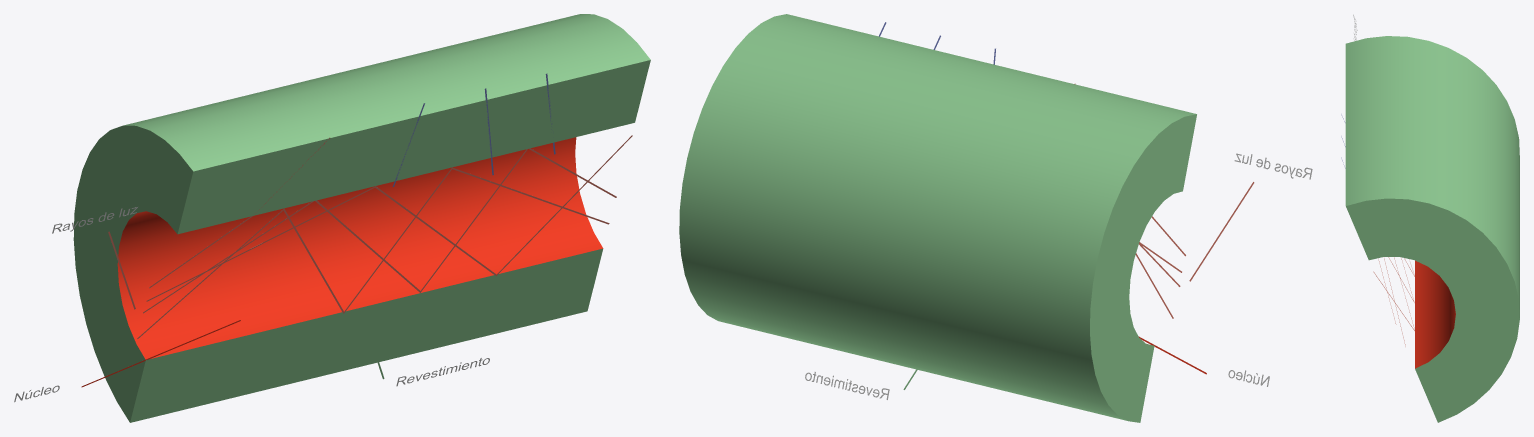
The model's file is FuncionFOP1.glb.
3 views of the same model, side by side, from view 1: azimuth 30°, elevation 25°; view 2: azimuth 150°, elevation 25°; view 3: azimuth 270°, elevation 25° (orthographic). The views are drawn at different scales.
Visible parts, largest first — view 1: FuncionFOcompleto; view 2: FuncionFOcompleto; view 3: FuncionFOcompleto.
Boxes of the visible parts, left/top/right/bottom form: FuncionFOcompleto: left=14, top=14, right=650, bottom=422; FuncionFOcompleto: left=679, top=14, right=1312, bottom=422; FuncionFOcompleto: left=1341, top=14, right=1519, bottom=422.
Size of the model in its own units: 38.86 by 21.87 by 13.95.
